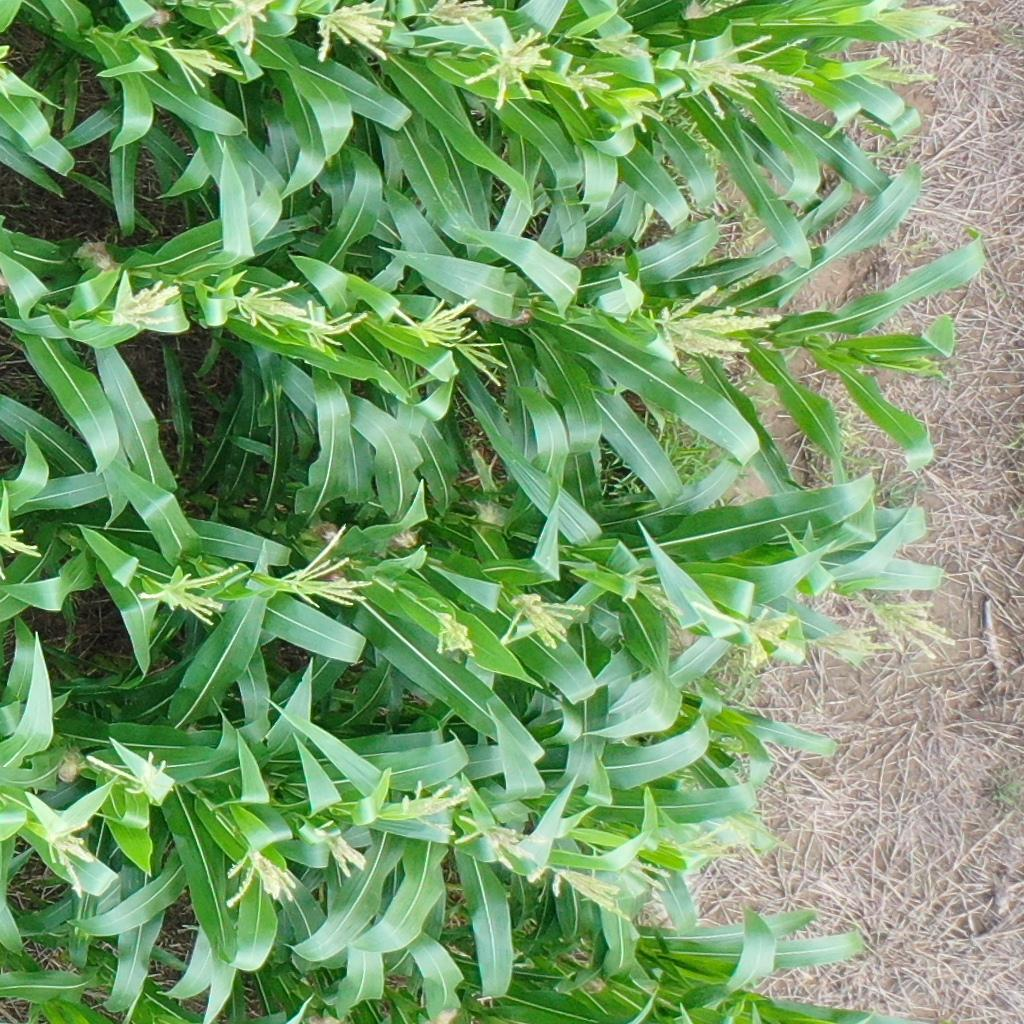Tassel: (674, 24, 820, 122), (649, 286, 786, 364), (263, 519, 368, 614), (456, 16, 558, 113), (688, 592, 808, 668), (134, 561, 241, 624), (78, 736, 173, 804), (307, 1, 401, 66), (499, 586, 584, 655), (861, 1, 974, 52), (879, 589, 961, 659), (452, 812, 544, 874), (41, 804, 100, 897), (221, 845, 302, 912), (718, 800, 798, 867), (384, 294, 475, 350), (661, 815, 745, 874), (102, 276, 189, 332), (232, 274, 310, 335), (165, 34, 246, 92), (545, 866, 632, 915), (802, 618, 894, 664), (393, 775, 470, 829), (616, 564, 687, 621), (298, 295, 366, 354), (848, 48, 932, 94), (310, 815, 372, 877), (216, 1, 280, 58), (453, 330, 514, 389), (579, 18, 656, 64), (606, 842, 678, 891), (427, 604, 481, 657), (1, 516, 42, 585), (563, 60, 614, 112), (614, 88, 664, 136), (422, 1, 501, 24)
